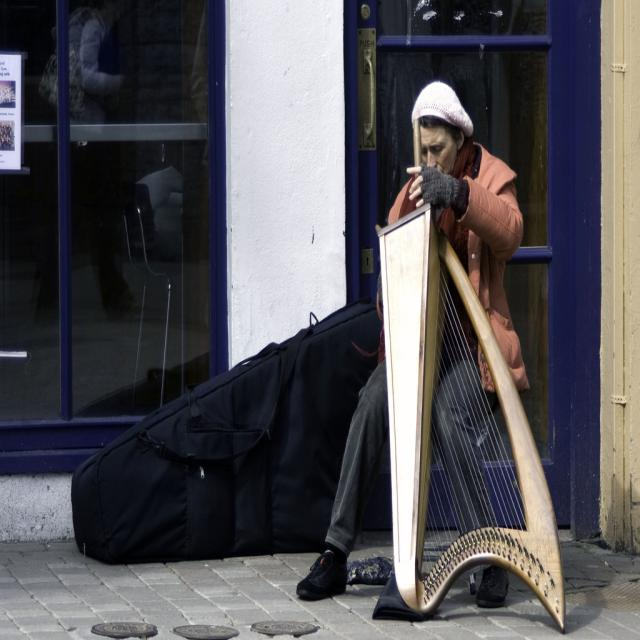harp: (374, 195, 575, 631)
